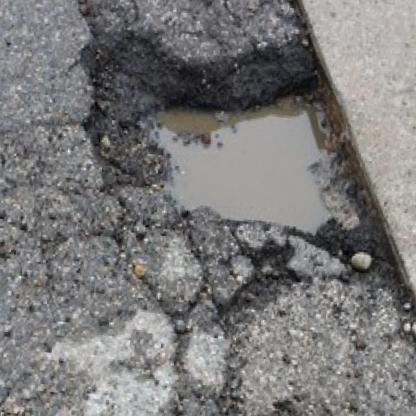pothole: (59, 27, 405, 261)
